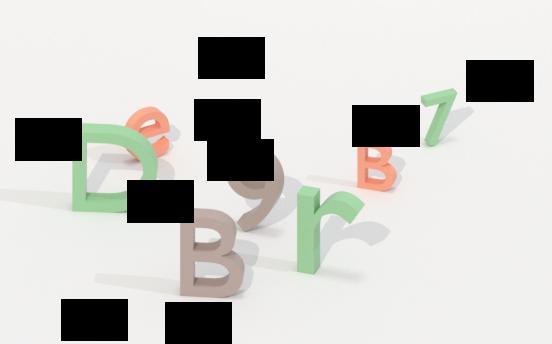7: (416, 87, 463, 148)
9: (221, 146, 290, 235)
R: (293, 185, 371, 277)
b: (175, 207, 249, 300), (351, 134, 400, 195)
d: (64, 122, 167, 212)
e: (122, 104, 170, 158)
